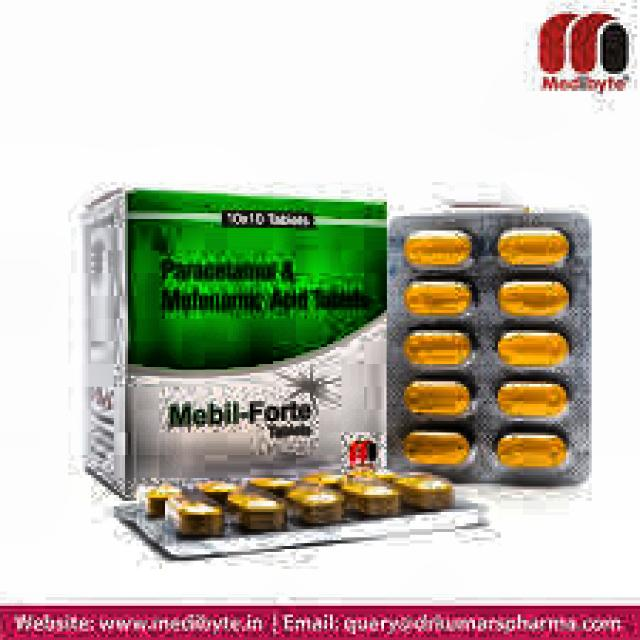Paracetamol: (141, 240, 388, 342)
